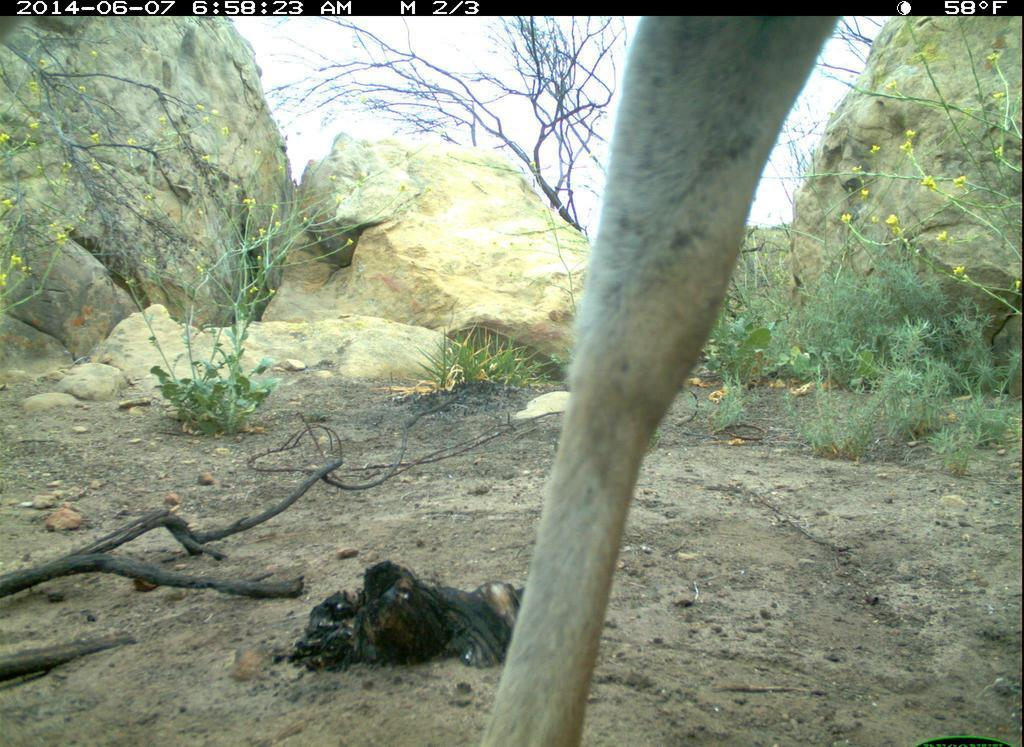deer: (481, 16, 838, 747)
